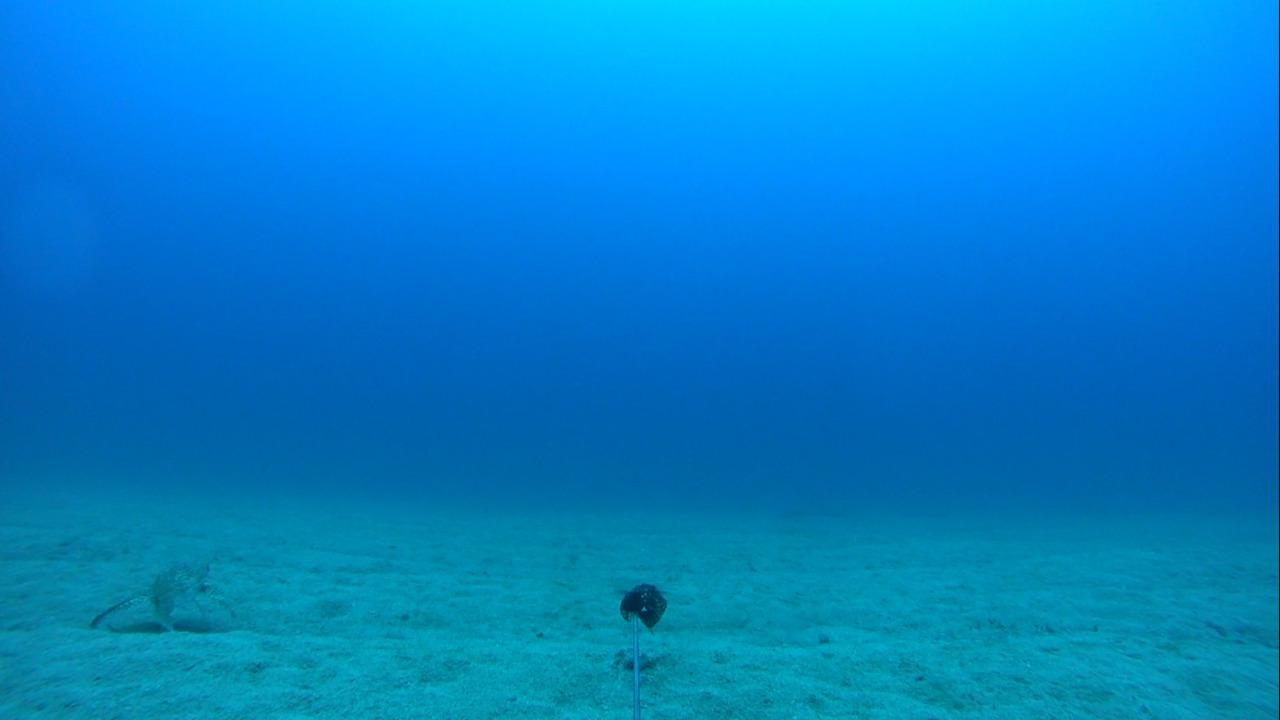dactylopterus: (72, 550, 236, 633)
